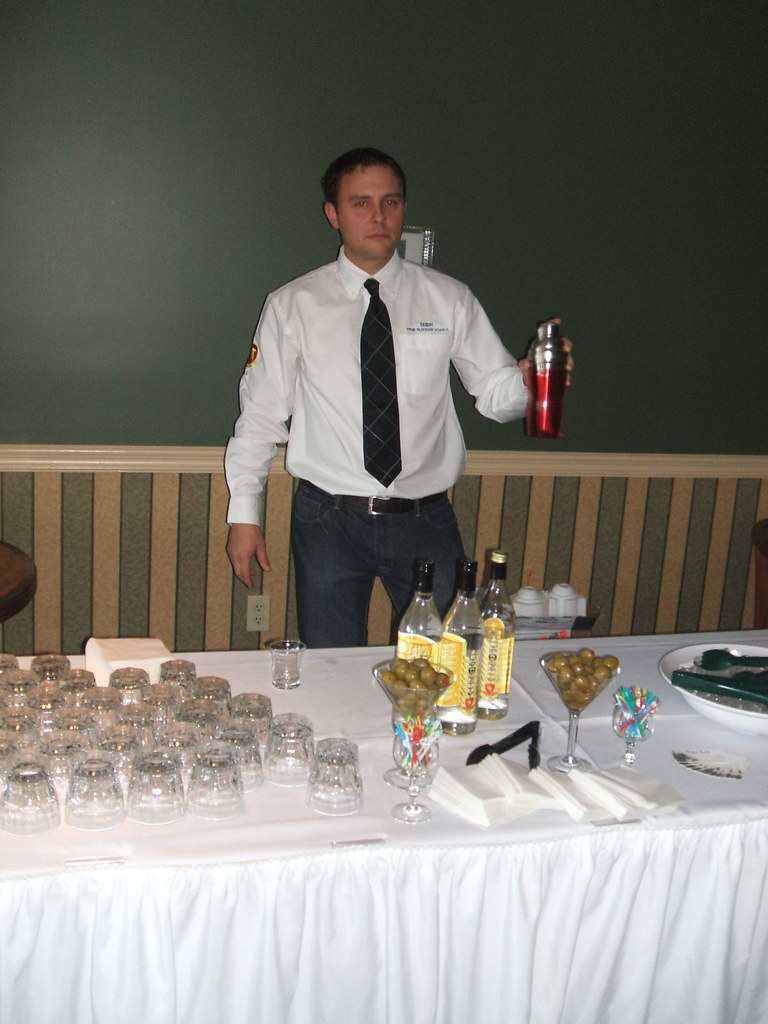Table: (28, 588, 768, 1011)
